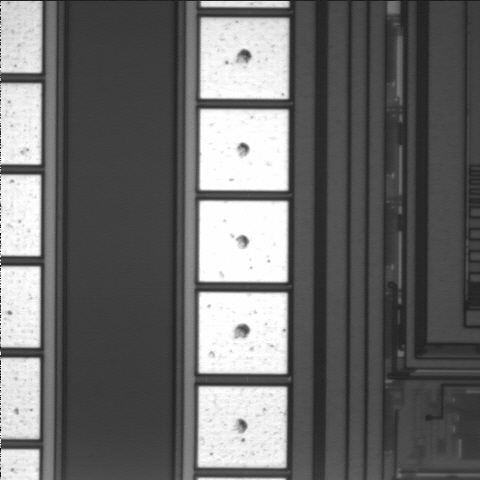pad: (199, 109, 288, 191), (198, 386, 287, 468), (199, 292, 287, 374), (200, 18, 289, 99), (199, 201, 288, 282)
